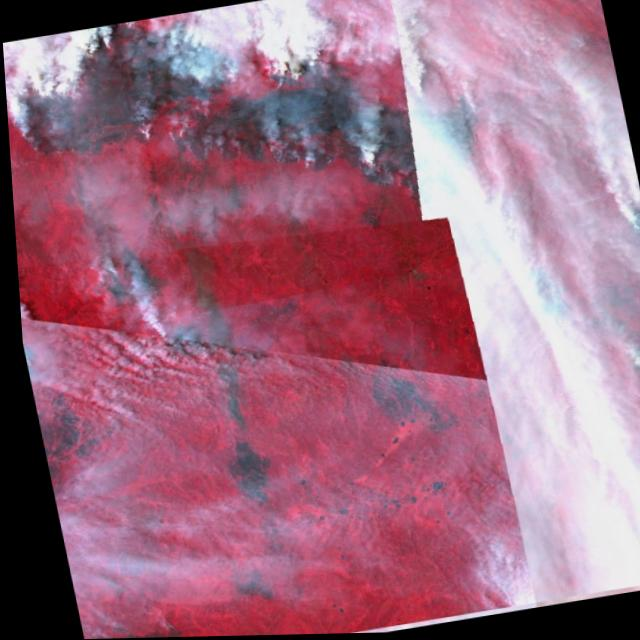fire: (4, 69, 90, 158), (149, 107, 245, 161), (258, 128, 331, 178), (347, 118, 391, 178), (139, 313, 175, 342)
